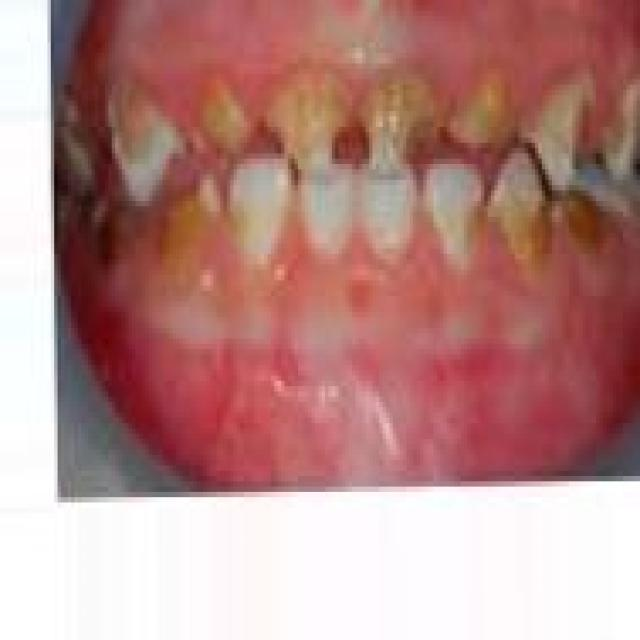caries: (546, 78, 634, 178), (262, 76, 348, 172), (354, 76, 437, 165), (103, 80, 168, 188), (446, 80, 519, 162), (484, 166, 542, 263), (162, 196, 223, 282), (190, 84, 251, 164), (544, 190, 602, 262)
